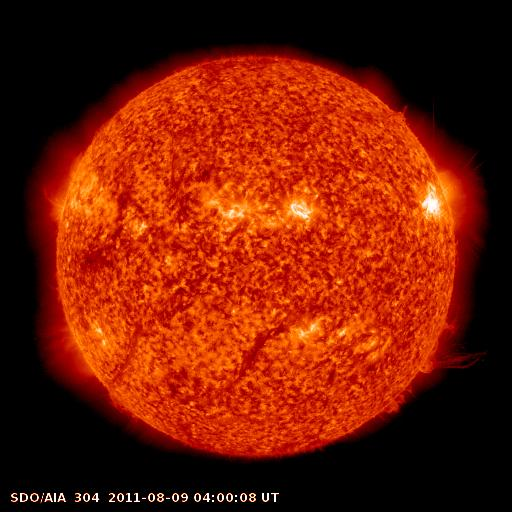prominence: (408, 298, 496, 374), (370, 382, 417, 423), (105, 389, 146, 424)
